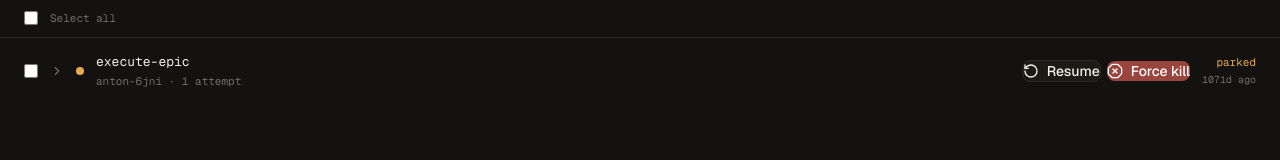
Test case: JobList kill affordance › keeps a failed job resumable but still shows the row as non-killed when the kill 409s
Click the button "Force kill" at (1148, 70), box [1107,60,1190,80]
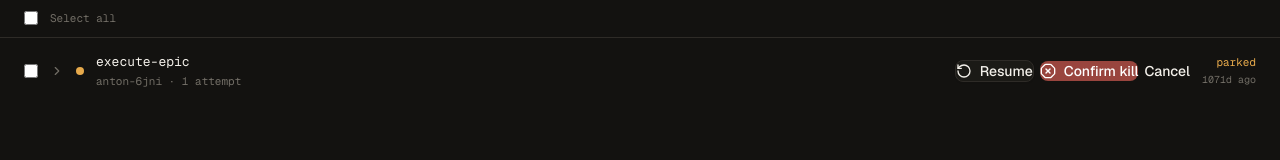
Click the button "Confirm kill" at (1089, 70), box [1040,60,1138,80]
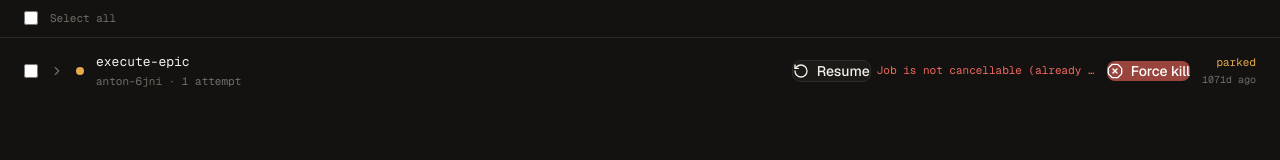
Check: the message "Job is not cancellable (already terminal)" is shown, box [877,62,1101,79]
Check: the message shows "not cancellable", box [877,63,1147,77]
Check: the button "Force kill" is shown, box [1107,60,1190,80]
